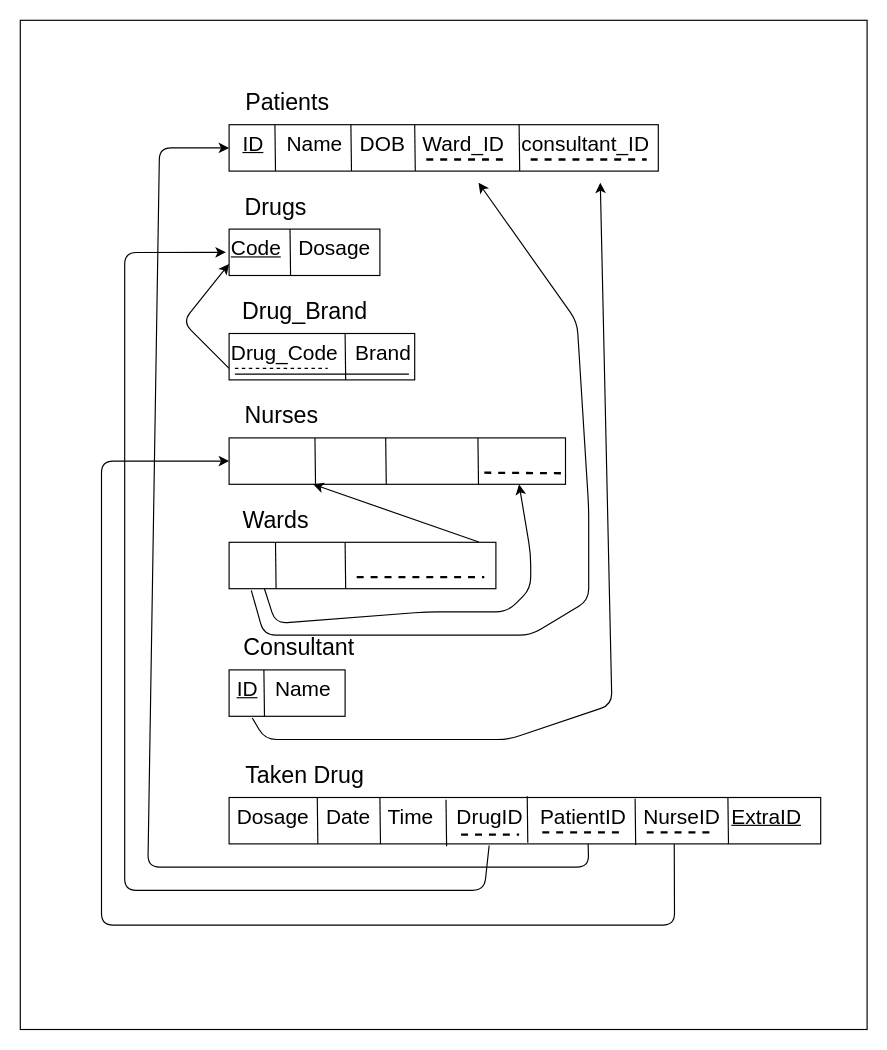
Some shapes in this 887 by 1050 pixel diagram are drawn without their labels. The shapes that lost their labels are listed below. From the top down, each one's centre as x and y in pixels, then its label:
At point (397, 460): "Number Name address ward_id".
At point (362, 565): "ID Name supervisor_id".
